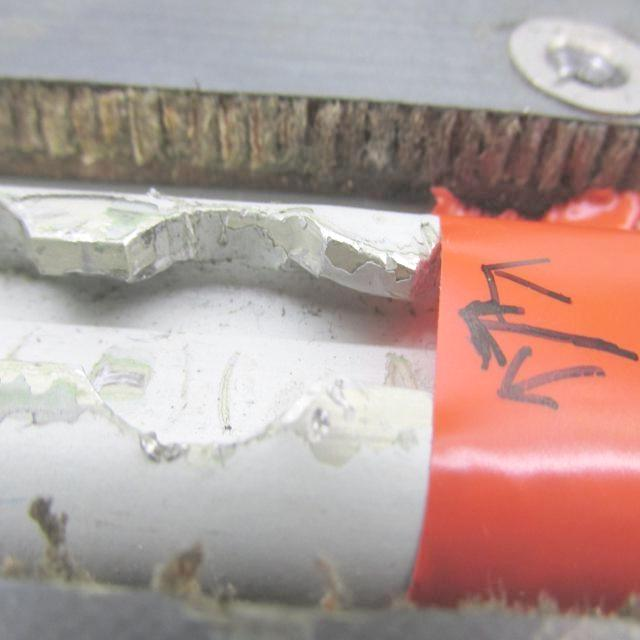Missing Fastener: (506, 18, 640, 110)
dent: (111, 422, 216, 472), (294, 393, 344, 449)
